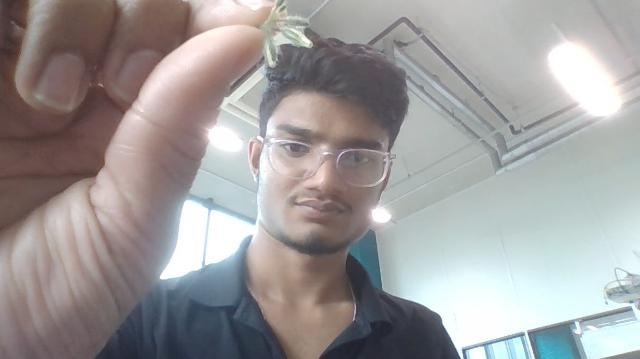Flower Bud: (278, 25, 313, 48), (263, 33, 277, 70), (273, 0, 288, 13)
